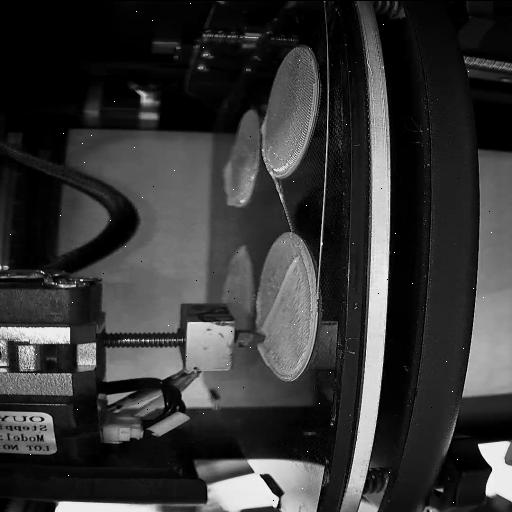over_extrusion: (262, 254, 298, 334), (220, 160, 242, 204), (252, 344, 274, 364), (256, 116, 270, 136)
